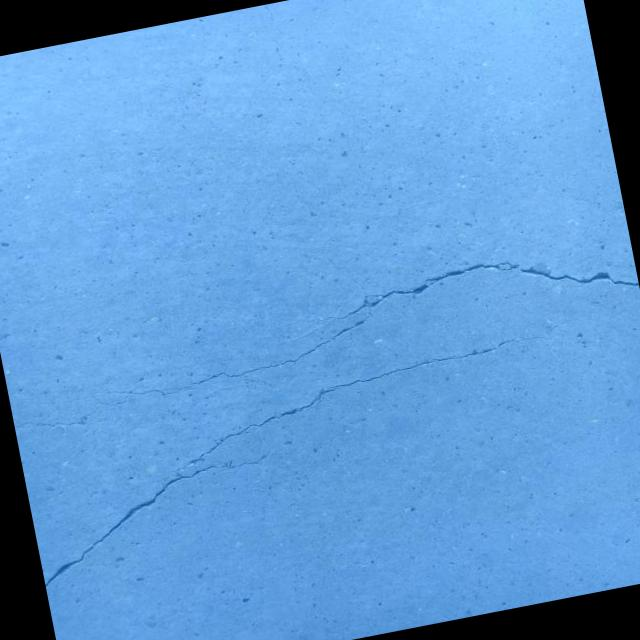crack: (14, 318, 610, 588), (332, 234, 640, 344), (64, 315, 378, 416), (12, 393, 132, 438), (330, 332, 360, 370), (245, 368, 298, 388), (308, 369, 328, 379)
